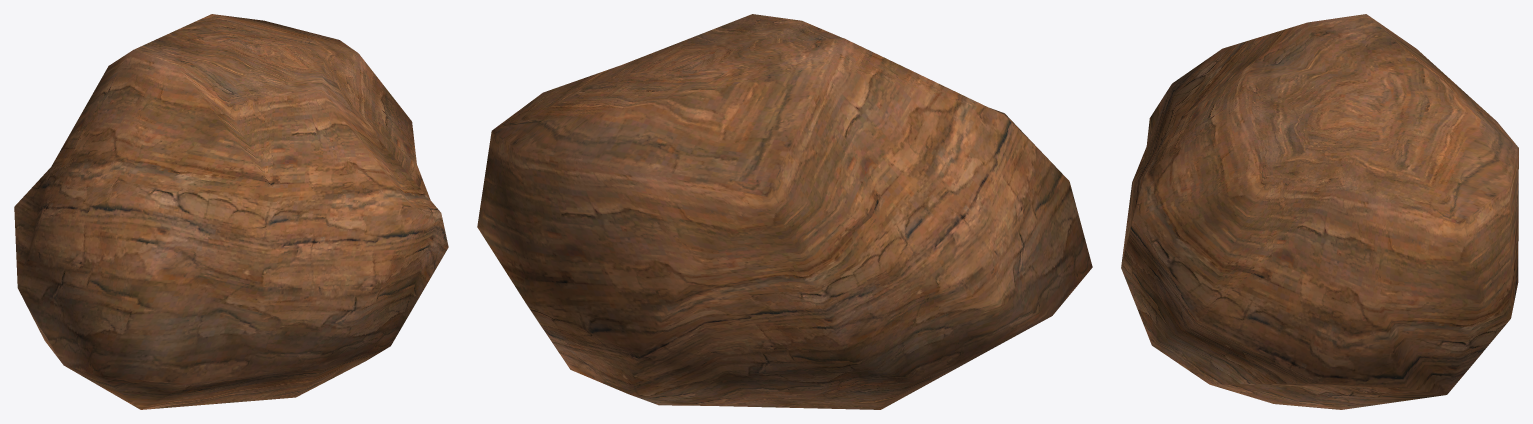
The model's file is rock_tatt_jundland_boulder_a1_l1.fbx.
The picture shows the model from 3 angles, left to right: view 1: azimuth 30°, elevation 25°; view 2: azimuth 150°, elevation 25°; view 3: azimuth 270°, elevation 25°; orthographic projection. The views are drawn at different scales.
Visible parts, largest first — view 1: mesh_node; view 2: mesh_node; view 3: mesh_node.
Boxes of the visible parts, <box> form: mesh_node: <box>14,14,448,409</box>; mesh_node: <box>477,14,1092,409</box>; mesh_node: <box>1121,14,1518,409</box>.
Size of the model in its own units: 3.32 by 2.5 by 2.72.
